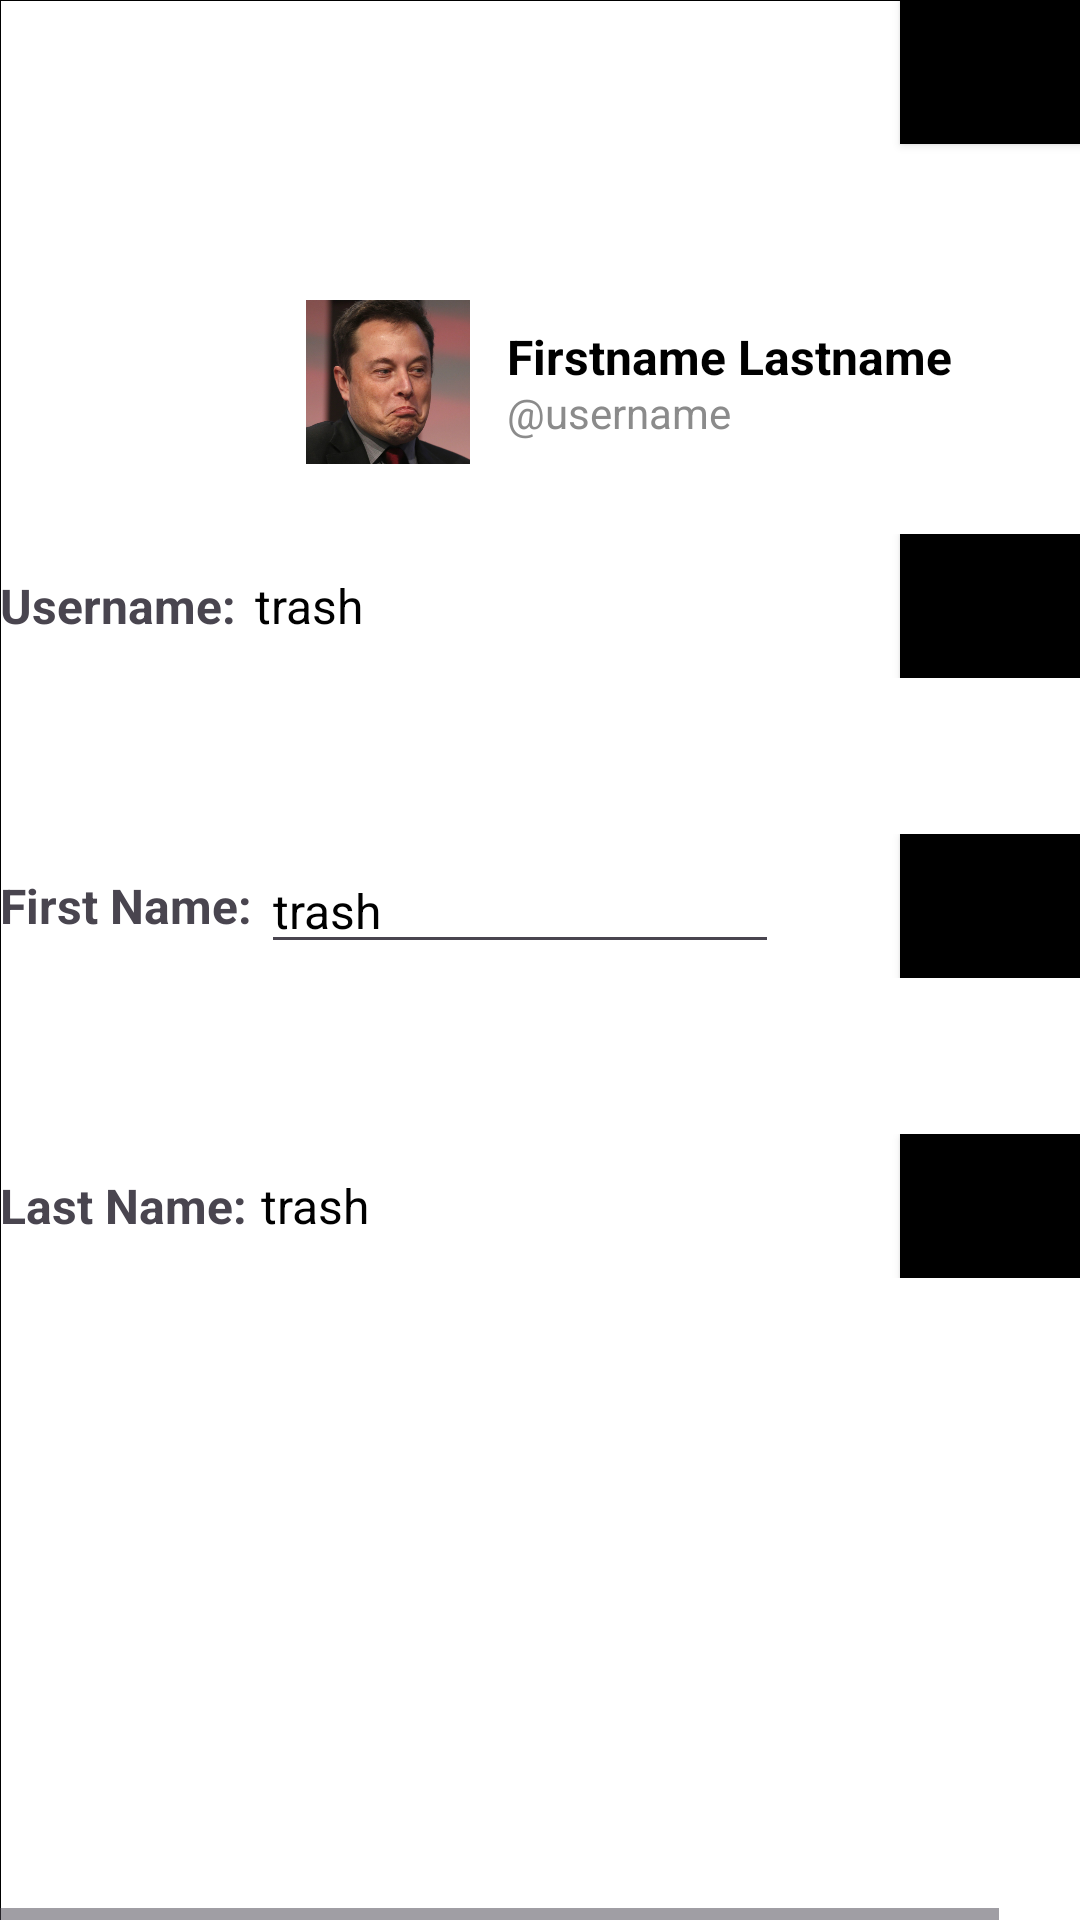

Point at icon controls on the screen. Image size 1080x1920, points as (x,y).
user profile: (388,382)
